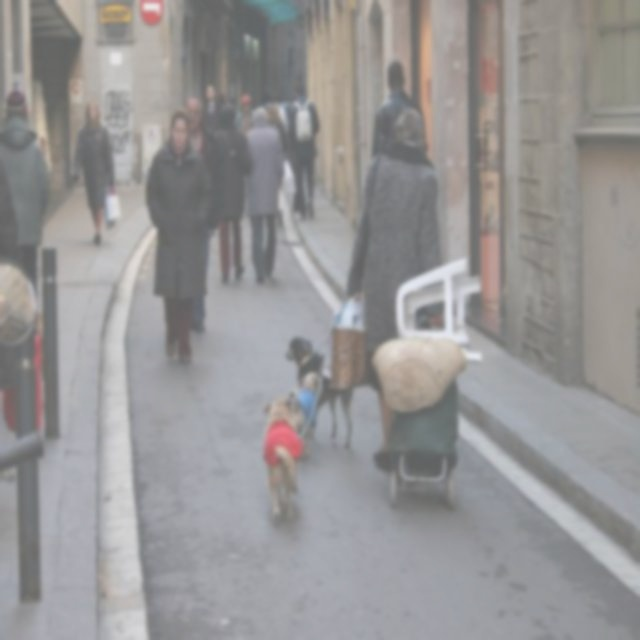pessoa: (344, 100, 446, 473), (142, 105, 215, 368), (1, 88, 51, 309), (181, 90, 223, 332), (207, 100, 254, 290), (244, 104, 286, 286), (70, 96, 120, 248), (369, 59, 429, 162), (287, 76, 321, 222), (199, 80, 223, 189), (266, 102, 290, 164), (234, 93, 256, 136), (270, 90, 296, 124), (292, 188, 301, 210), (220, 91, 228, 104)
